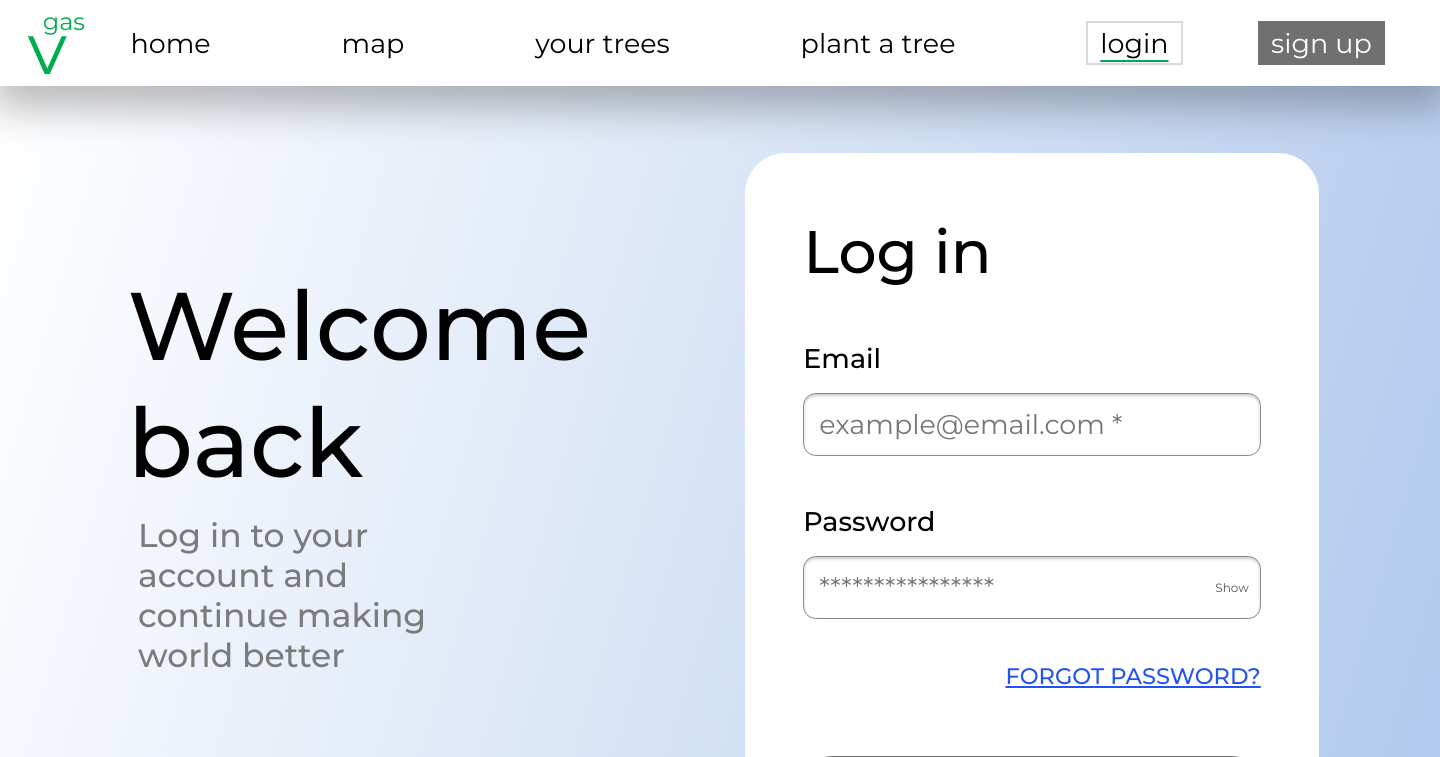
Test: Navigation and interface interactions › toggles password visibility and displays an accessible recovery dialog
This screenshot has width=1440, height=757.
Type "demonstration" into the password field named "password" at [1032, 588], box [803, 556, 1261, 619]
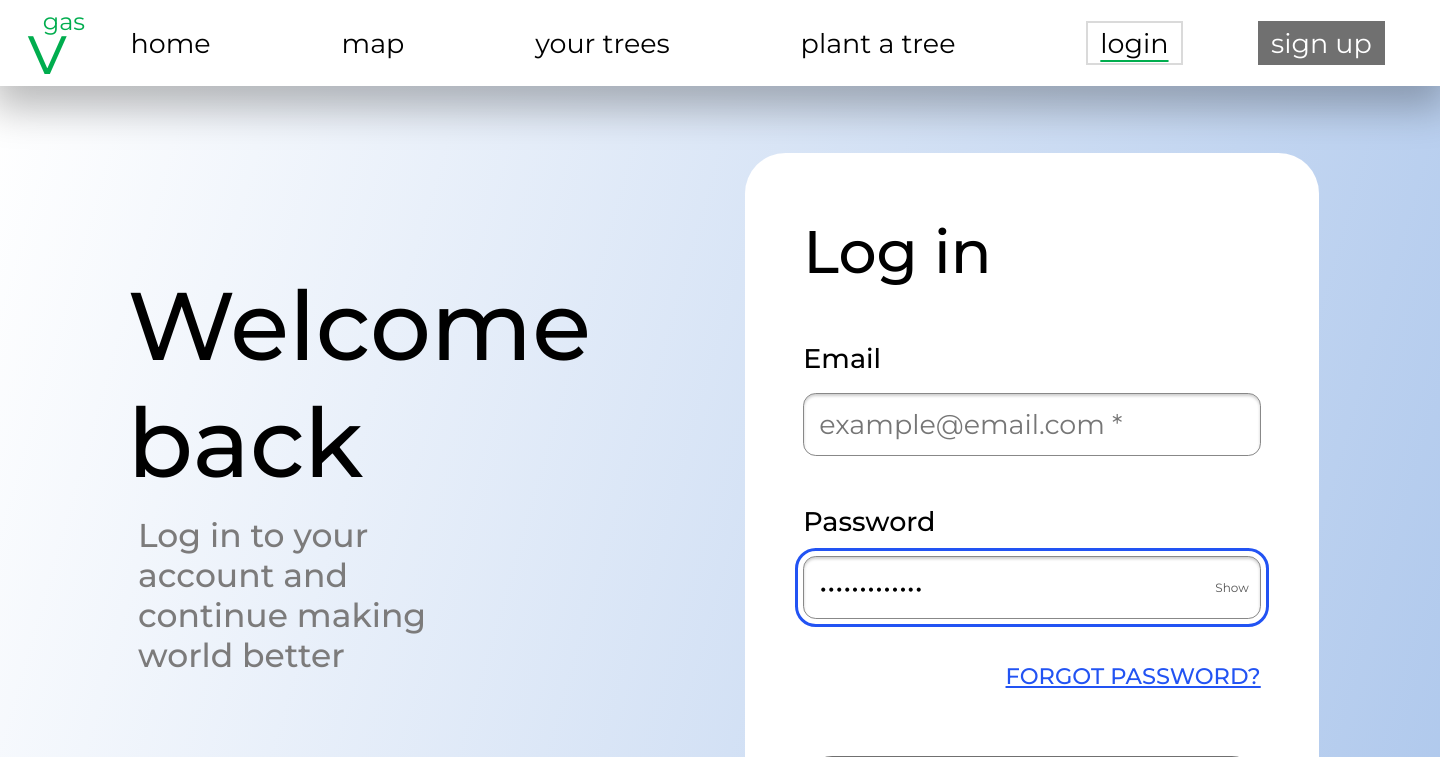
Click the button with aria-label "Show password" at [1232, 588], box [1209, 566, 1254, 610]
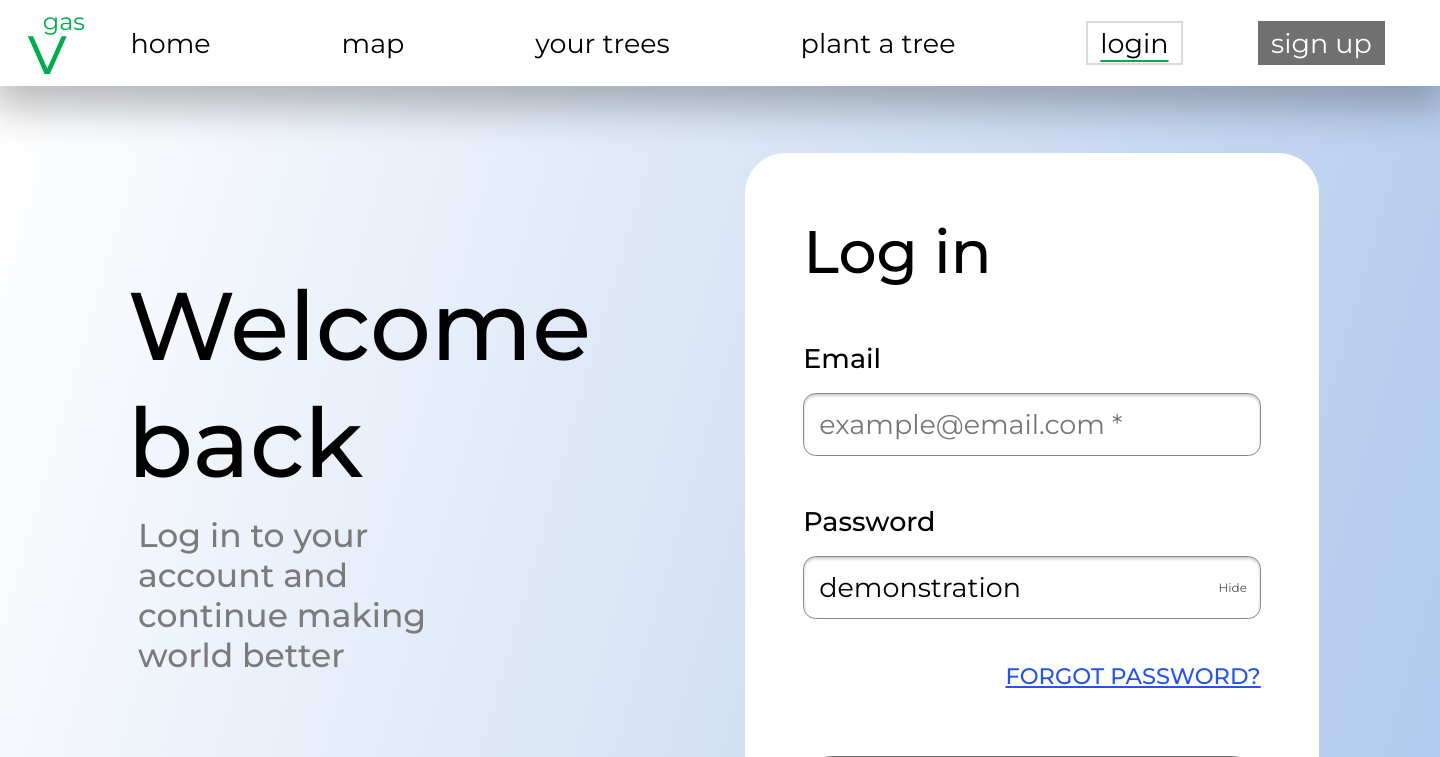
expect the field named "password" shows its text: met, box [803, 556, 1261, 619]
Click the button with aria-label "Hide password" at [1233, 588], box [1211, 566, 1255, 610]
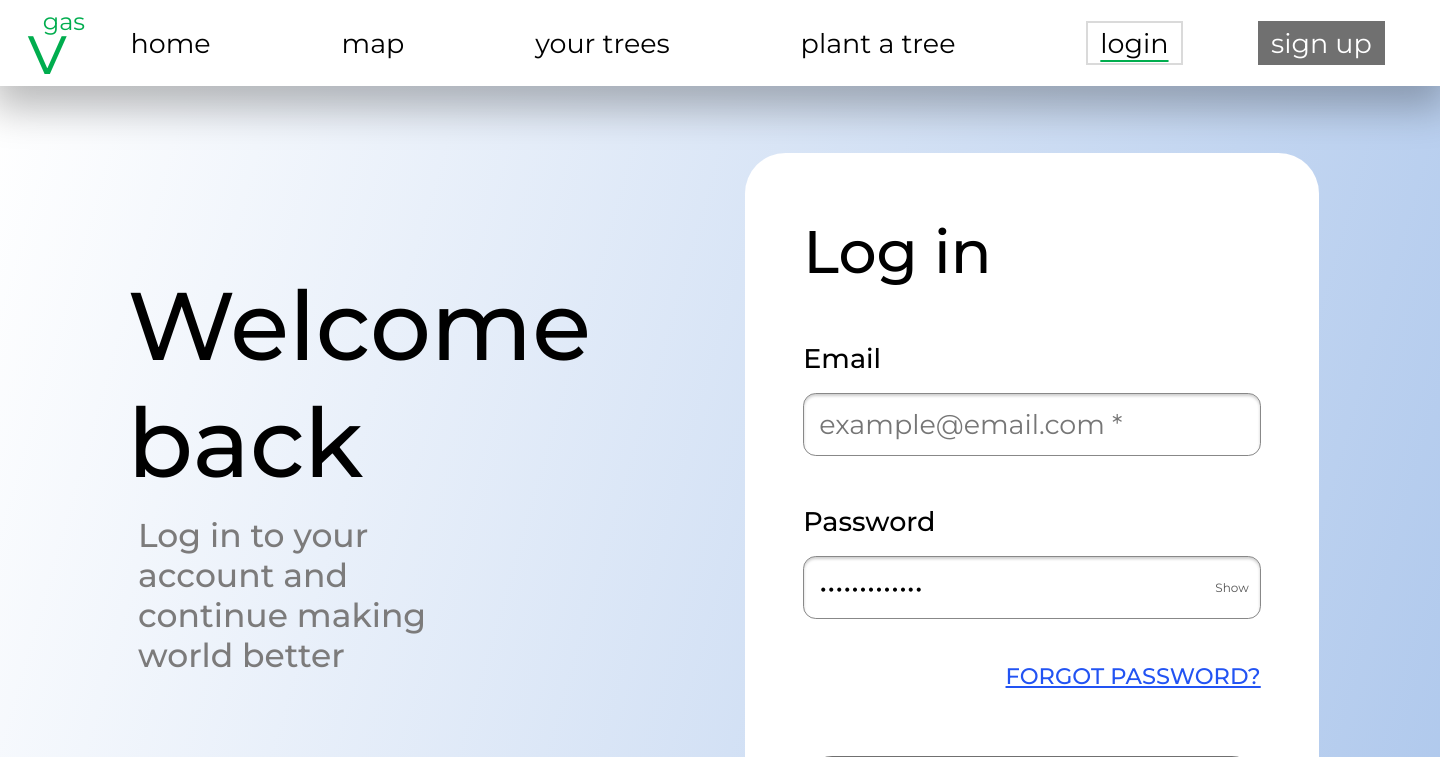
expect the password field named "password" hides its text: met, box [803, 556, 1261, 619]
Click the button "FORGOT PASSWORD?" at [1134, 676], box [1006, 660, 1261, 692]
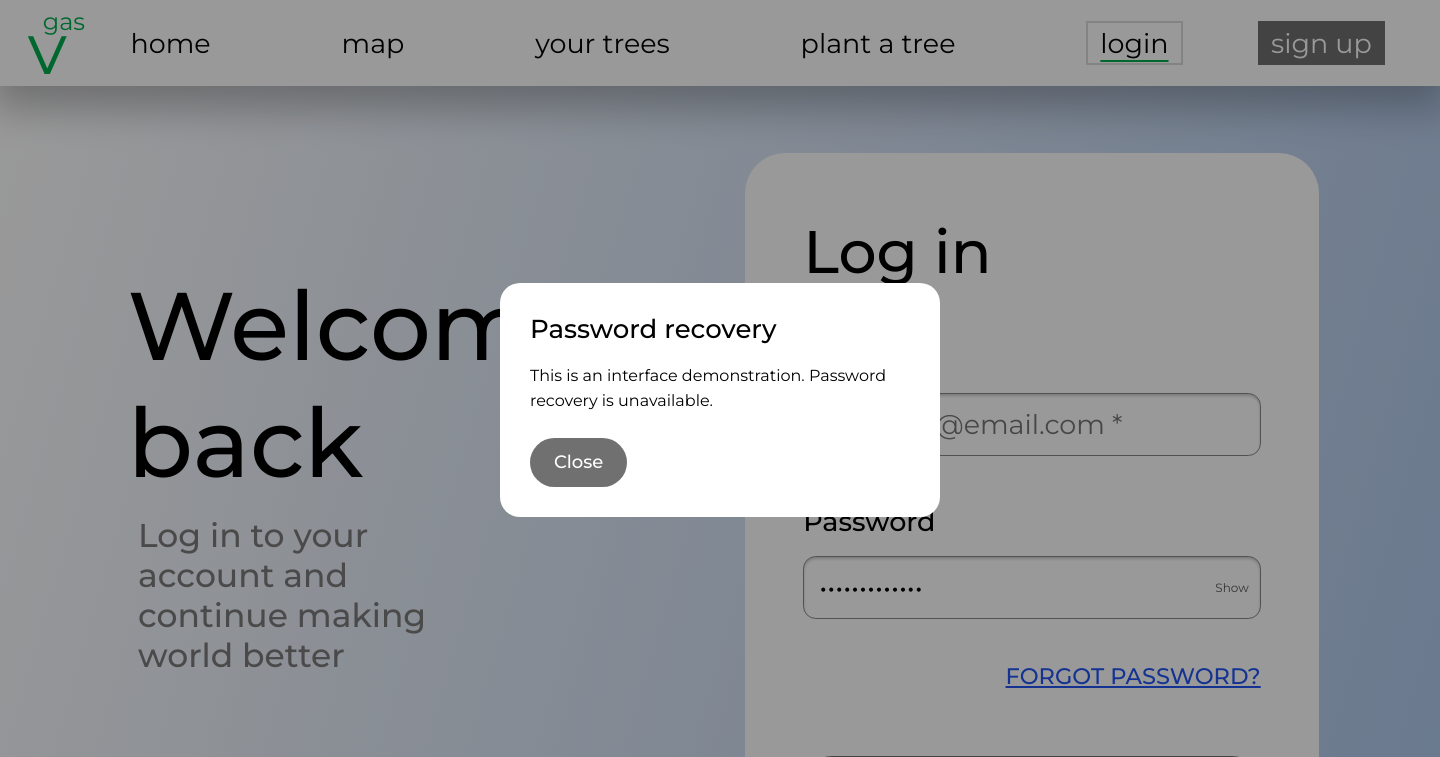
expect the dialog is shown: met, box [500, 283, 940, 518]
Click the button "Close" at [579, 463], box [530, 438, 627, 488]
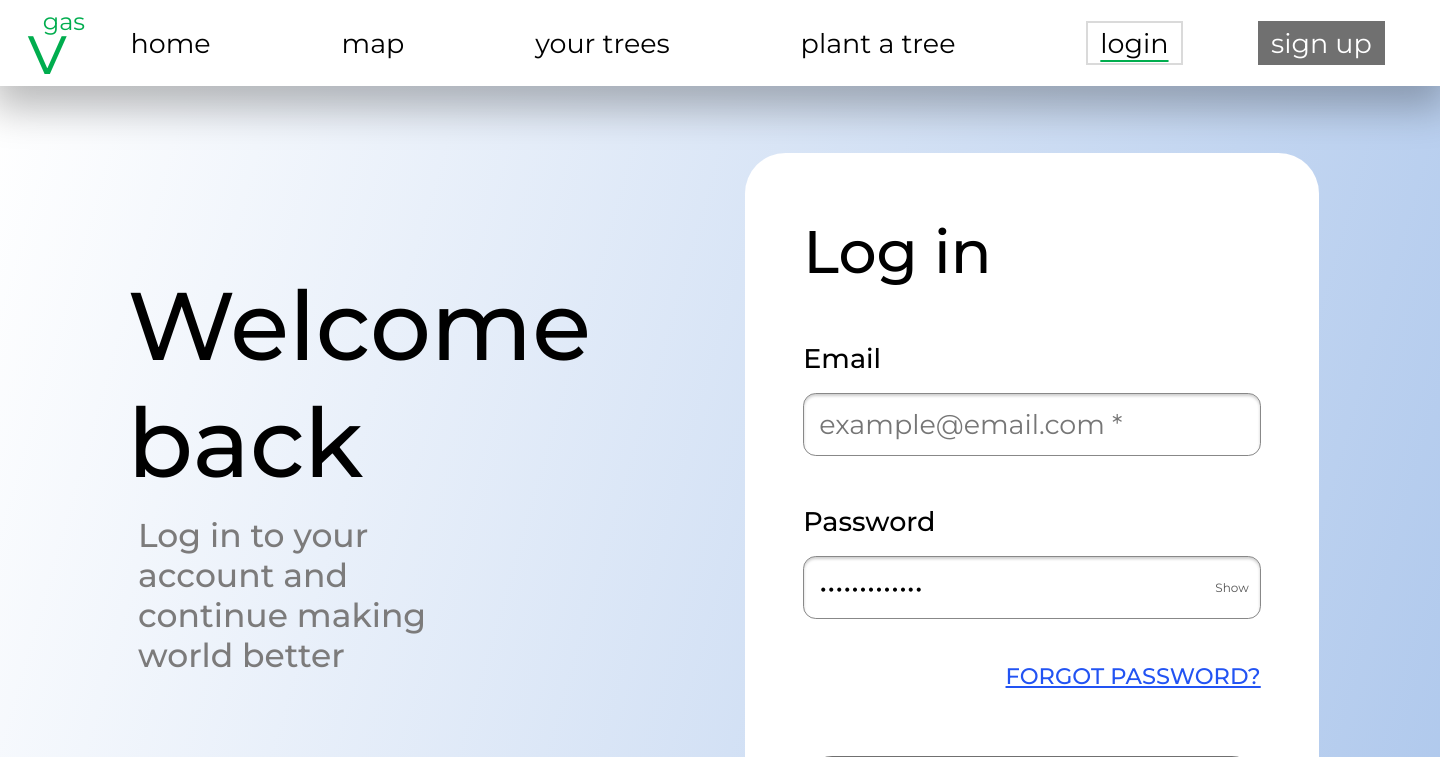
expect the dialog is gone: met
